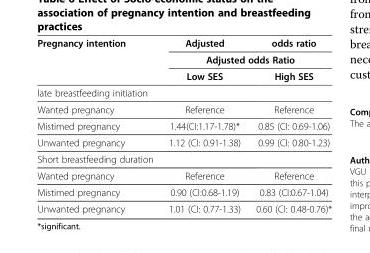table: (36, 36, 331, 214)
table column: (36, 36, 160, 214), (160, 36, 247, 214), (247, 36, 331, 214)
table column header: (36, 36, 331, 84)
table projected row header: (36, 150, 331, 167), (36, 84, 331, 100)
table row: (36, 50, 331, 67), (36, 67, 331, 84), (36, 100, 331, 117), (36, 133, 331, 150), (36, 150, 331, 167), (36, 183, 331, 200), (36, 84, 331, 100), (36, 117, 331, 133), (36, 167, 331, 183), (36, 36, 331, 50), (36, 200, 331, 214)
table spanning cell: (36, 36, 160, 84), (160, 50, 331, 67)
